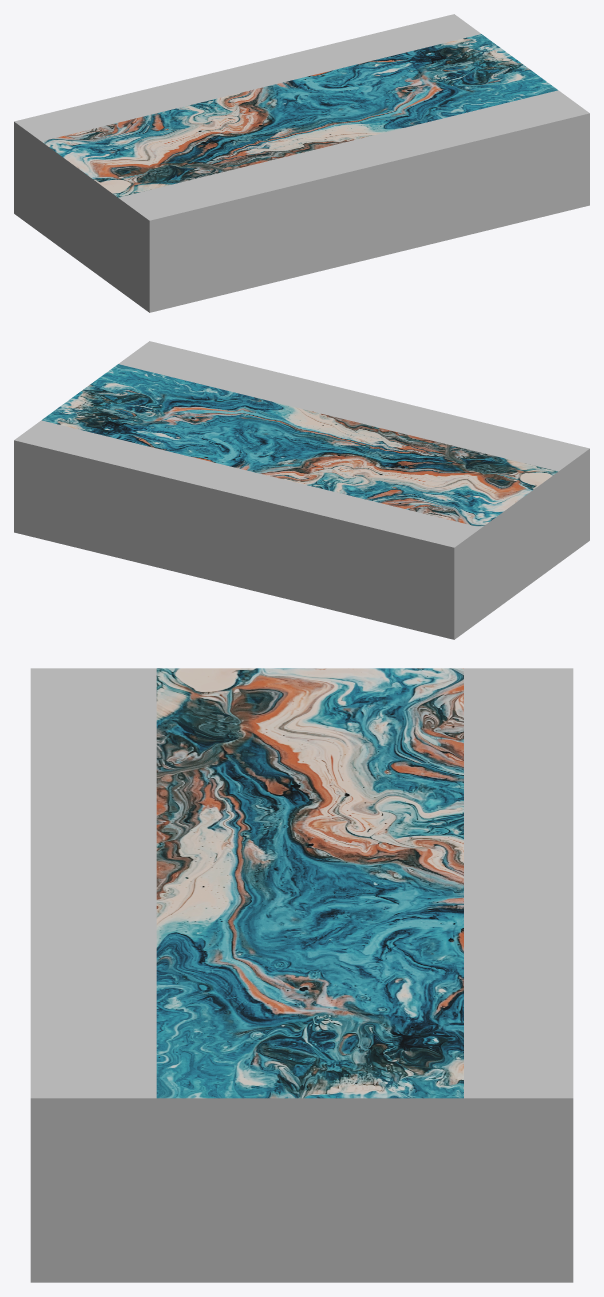
The model's file is robdekon_withPerlin.dae.
3 renders of one model, top to bottom at view 1: azimuth 30°, elevation 25°; view 2: azimuth 150°, elevation 25°; view 3: azimuth 270°, elevation 25°, orthographic. The views are drawn at different scales.
Visible parts, largest first — view 1: Cube; view 2: Cube; view 3: Cube.
Boxes of the visible parts, bbox=[...] form: Cube: bbox=[14, 14, 589, 312]; Cube: bbox=[14, 341, 589, 639]; Cube: bbox=[30, 668, 573, 1282].
Size of the model in its own units: 22.5 by 12 by 4.5.
